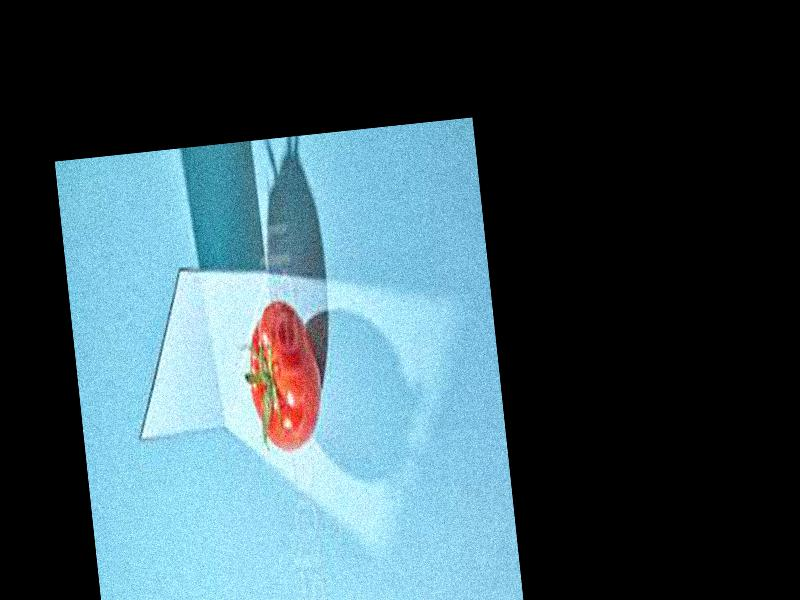Tomato: (242, 297, 327, 453)
